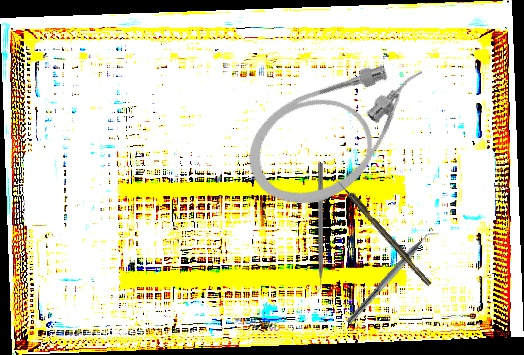Cannula: (230, 40, 454, 225)
Chopper: (346, 224, 441, 331), (311, 163, 323, 296)
Hook Surgical: (334, 176, 433, 288)
